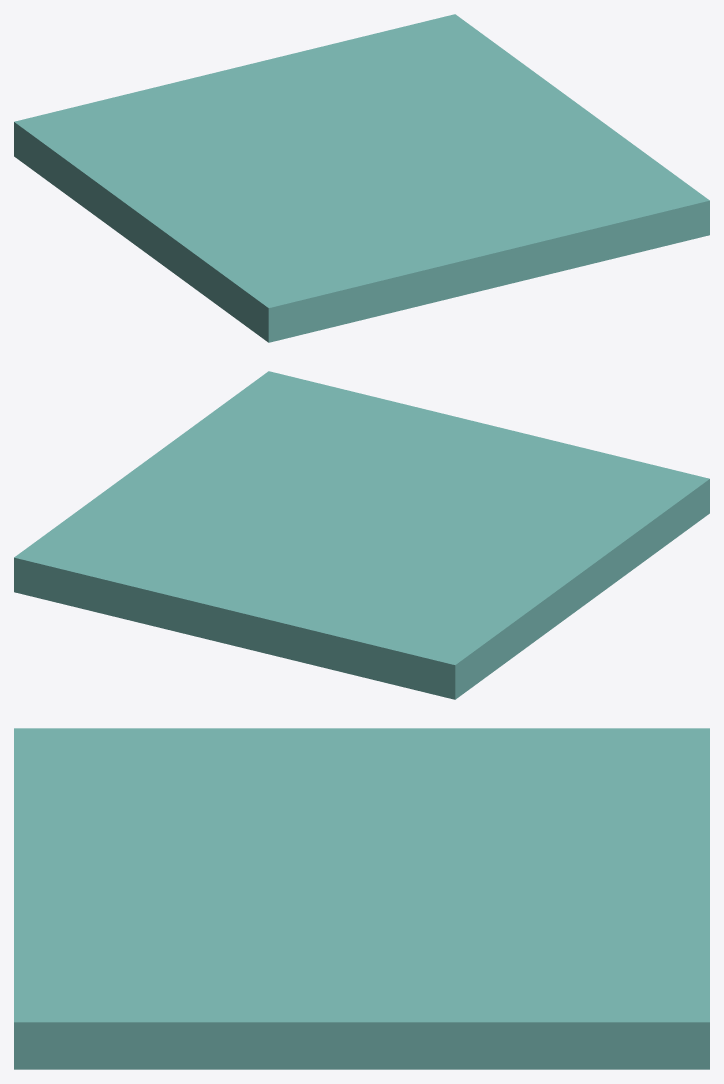
The model's file is EspacioInicialTechoInteriorBajoNI.gltf.
3 renders of one model, top to bottom at view 1: azimuth 30°, elevation 25°; view 2: azimuth 150°, elevation 25°; view 3: azimuth 270°, elevation 25°, orthographic. The views are drawn at different scales.
Visible parts, largest first — view 1: techo bajo.23; view 2: techo bajo.23; view 3: techo bajo.23.
Part boxes in pixels (x1=…): techo bajo.23: x1=14, y1=14, x2=709, y2=342; techo bajo.23: x1=14, y1=371, x2=709, y2=699; techo bajo.23: x1=14, y1=728, x2=709, y2=1069.
Size of the model in its own units: 2 by 0.15 by 2.
